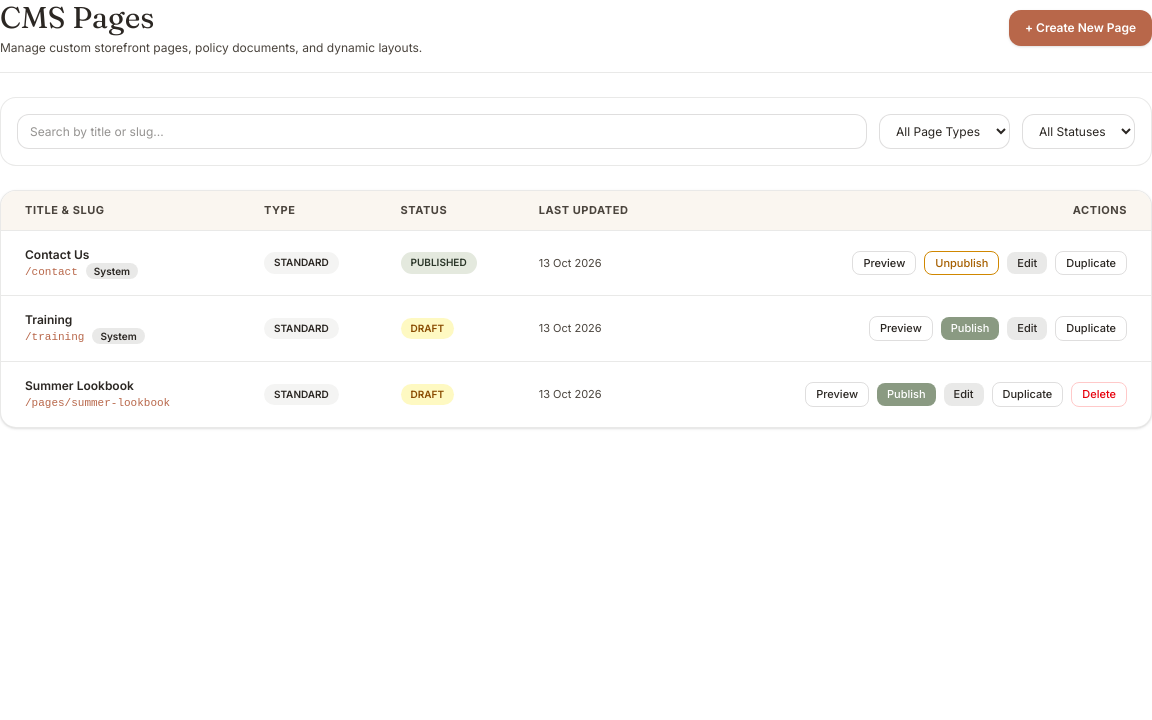
Admin → Pages treats system pages as system pages › shows the real route + System badge, hides Delete for system pages only, and locks the slug
Expected: the text "/contact" is shown, [25, 266, 78, 278]
Expected: the text "System" next to "/contact" is shown, [94, 265, 130, 277]
Step 1. Click the button "Edit" in the row of "Contact Us" → (1027, 263), box [1007, 252, 1047, 274]
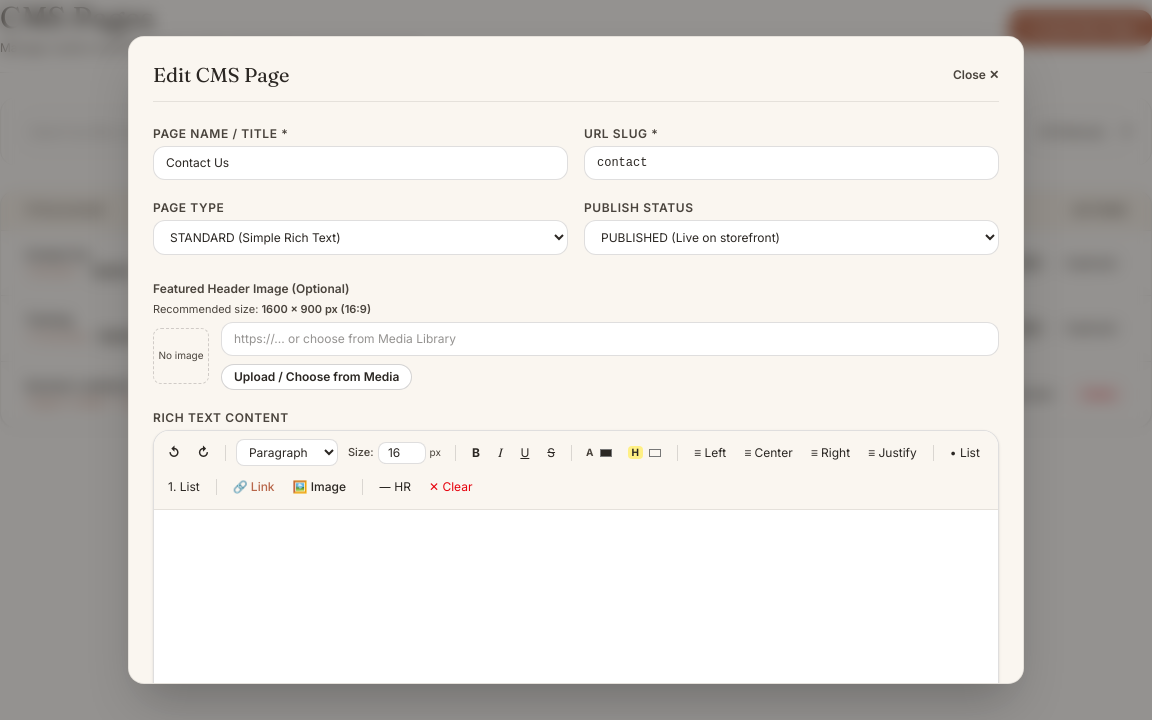
Now the field showing "contact" is disabled, box [584, 146, 999, 180]
